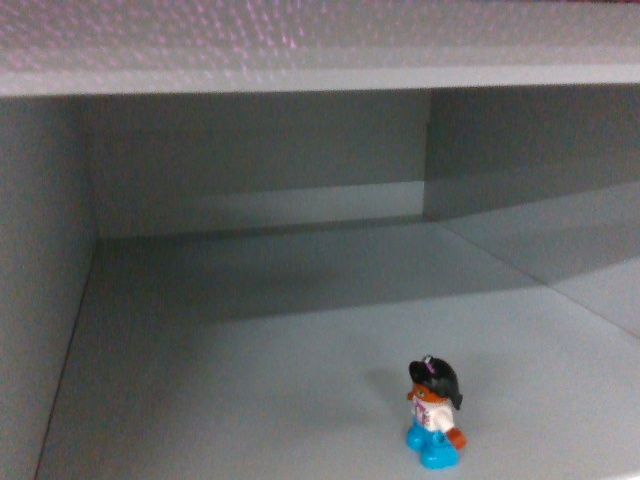people: (402, 352, 468, 474)
